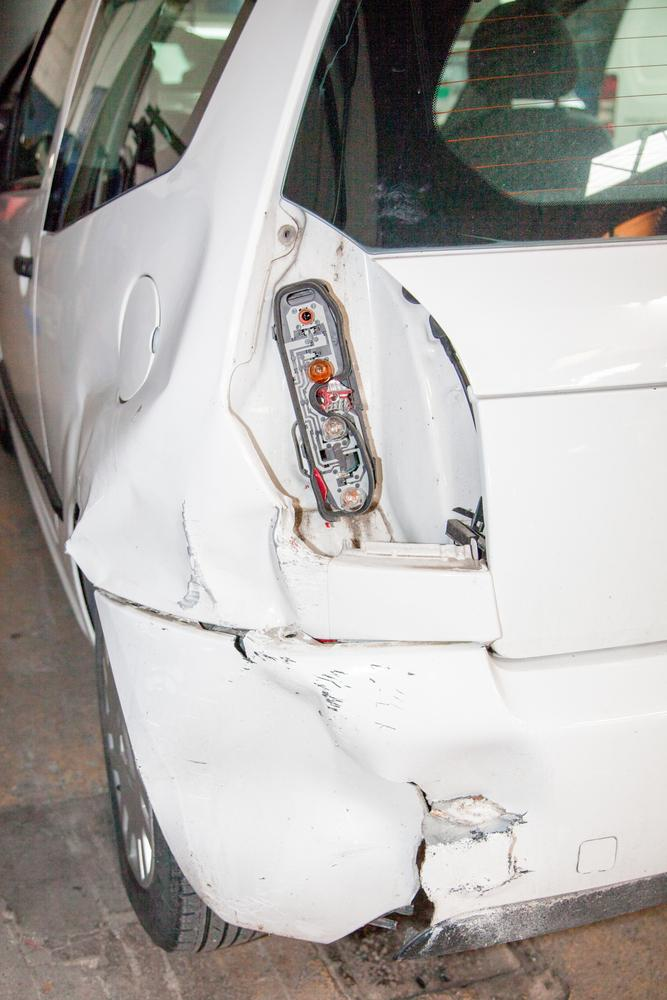crack: (405, 780, 434, 924)
dent: (104, 593, 423, 936), (66, 467, 295, 630), (418, 747, 539, 920)
lamp broken: (250, 224, 483, 556)
scratch: (255, 651, 422, 735)
